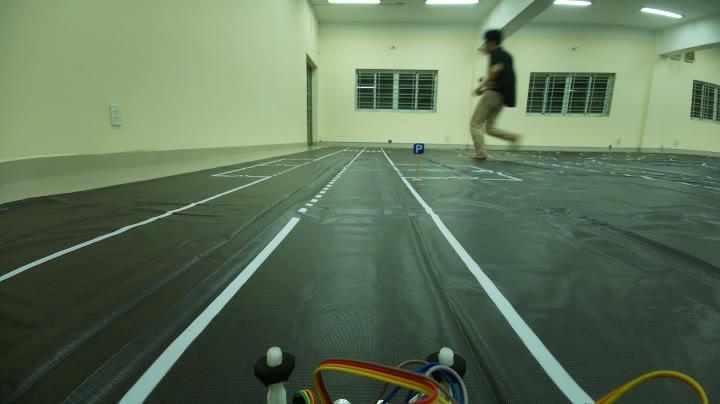parking: (412, 137, 428, 159)
